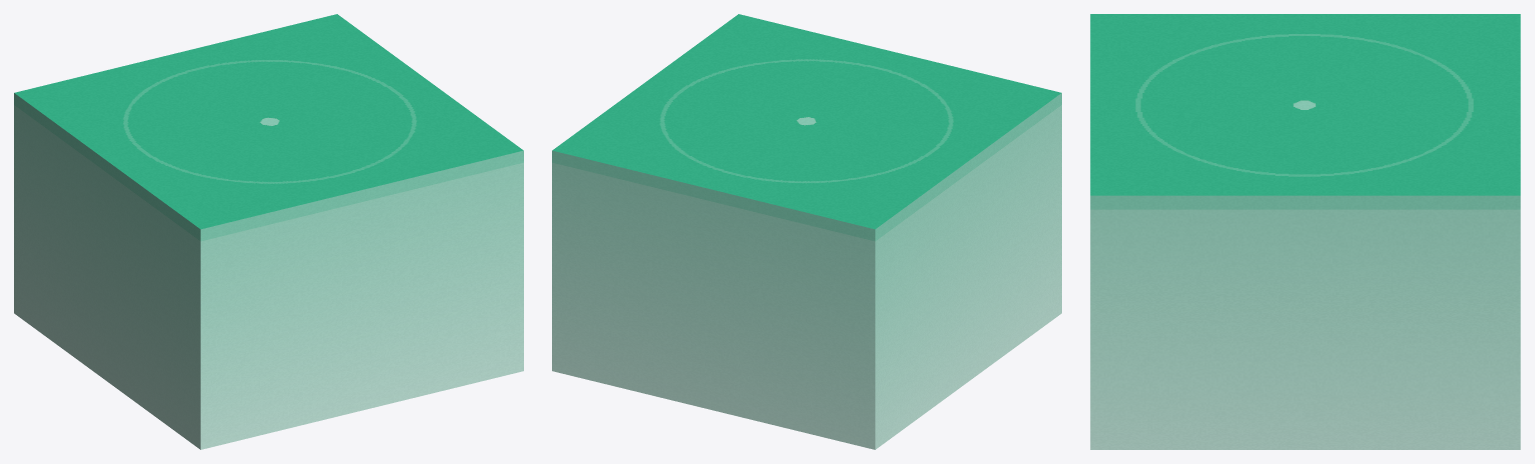
Rendered from box_medium_mint.glb.
3 views of the same model, side by side, from view 1: azimuth 30°, elevation 25°; view 2: azimuth 150°, elevation 25°; view 3: azimuth 270°, elevation 25° (orthographic). The views are drawn at different scales.
Visible parts, largest first — view 1: box_medium_mint; view 2: box_medium_mint; view 3: box_medium_mint.
Boxes of the visible parts, box(x1,y1,x2,y2) form: box_medium_mint: box(14, 14, 523, 449); box_medium_mint: box(552, 14, 1061, 449); box_medium_mint: box(1090, 14, 1520, 449).
Bounding box in the file's own units: 2.3 × 1.5 × 2.3.
Materials: 2 (2 with a texture image).
